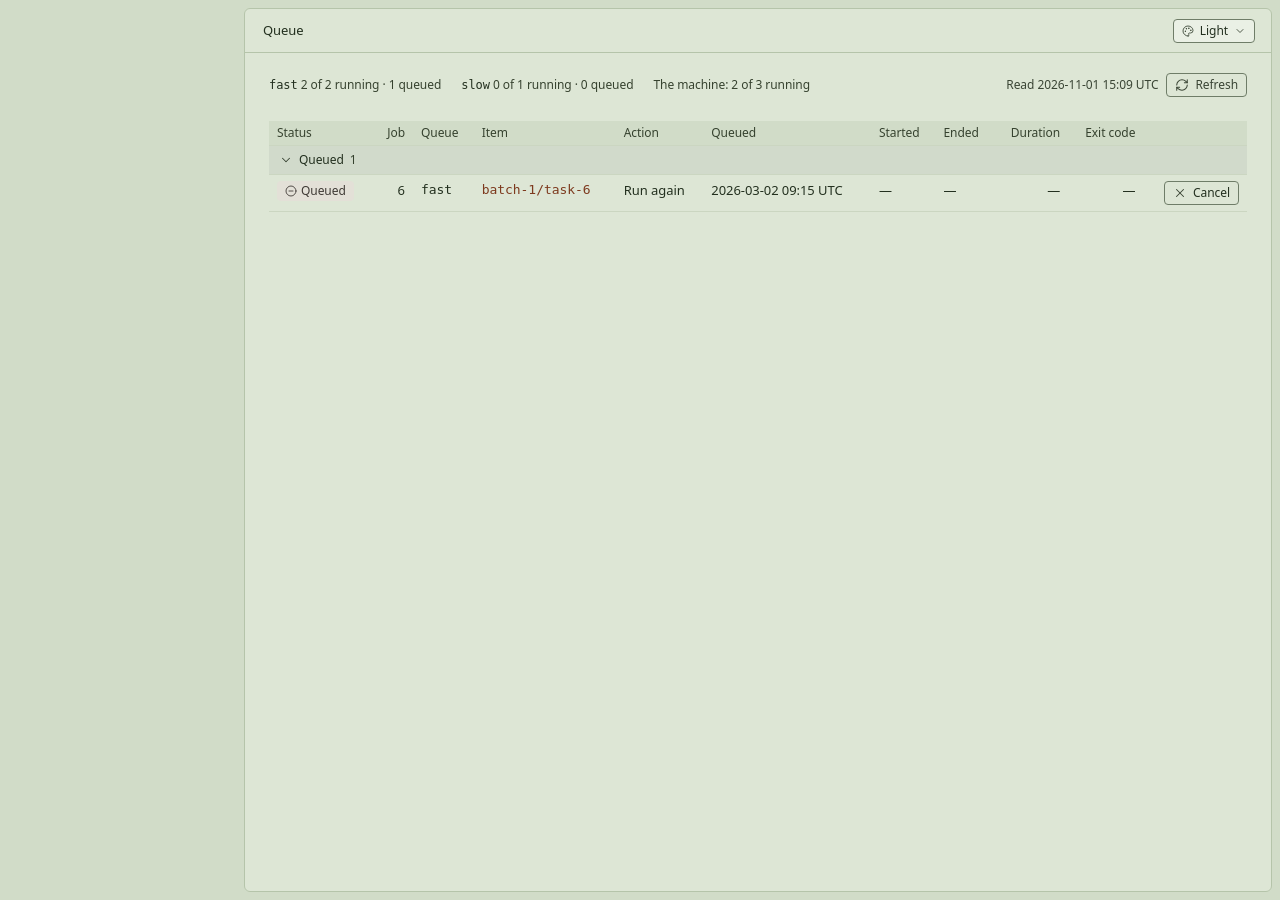
Test: the queue page › asks before it cancels a job, then posts its ID and reads again
The image size is (1280, 900).
Click the button "Cancel": (1202, 193) [1164,181,1239,205]
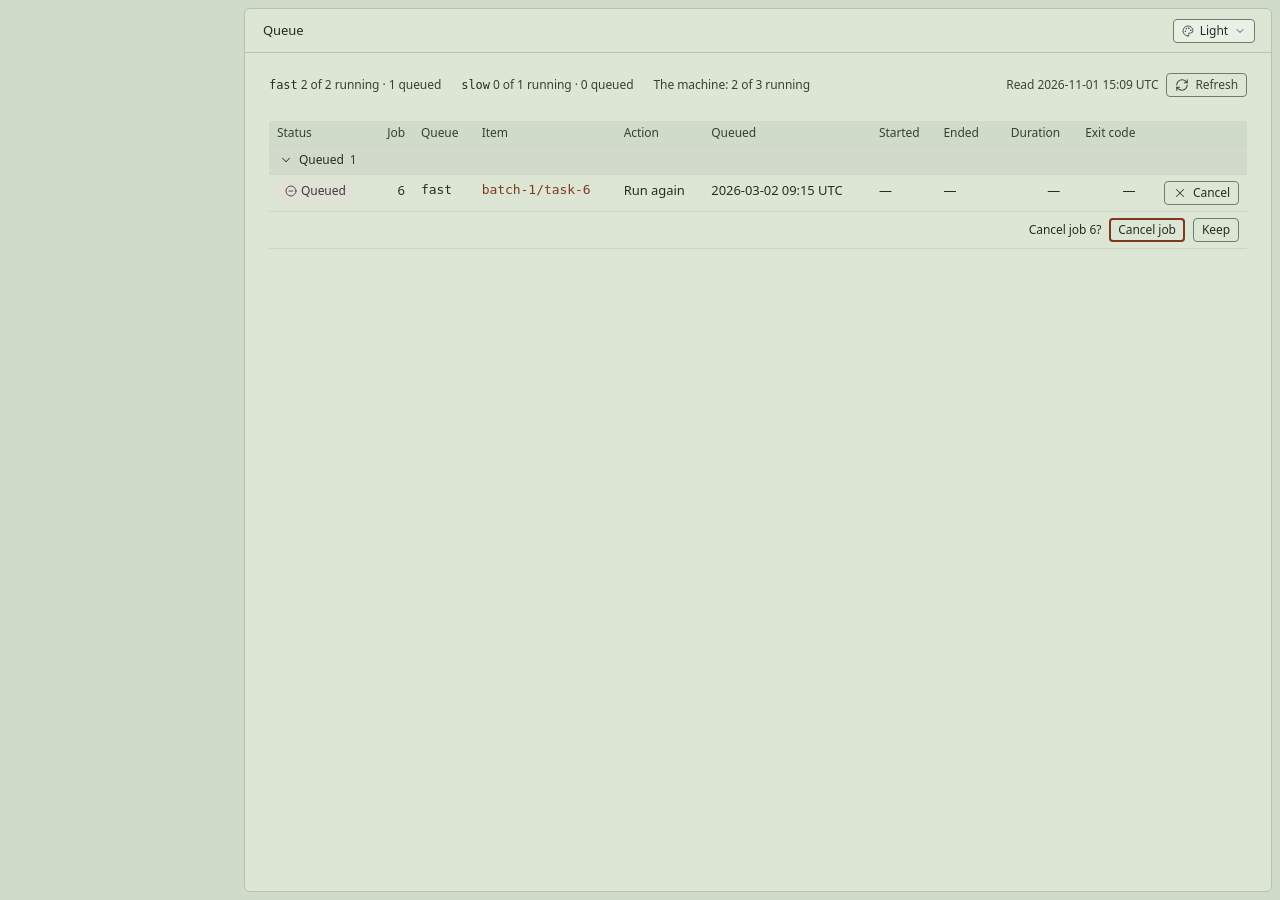
Expected: the text "Cancel job 6?" is shown, [1029,222,1101,238]
Click the button "Cancel job": (1147, 230) [1109,218,1185,242]
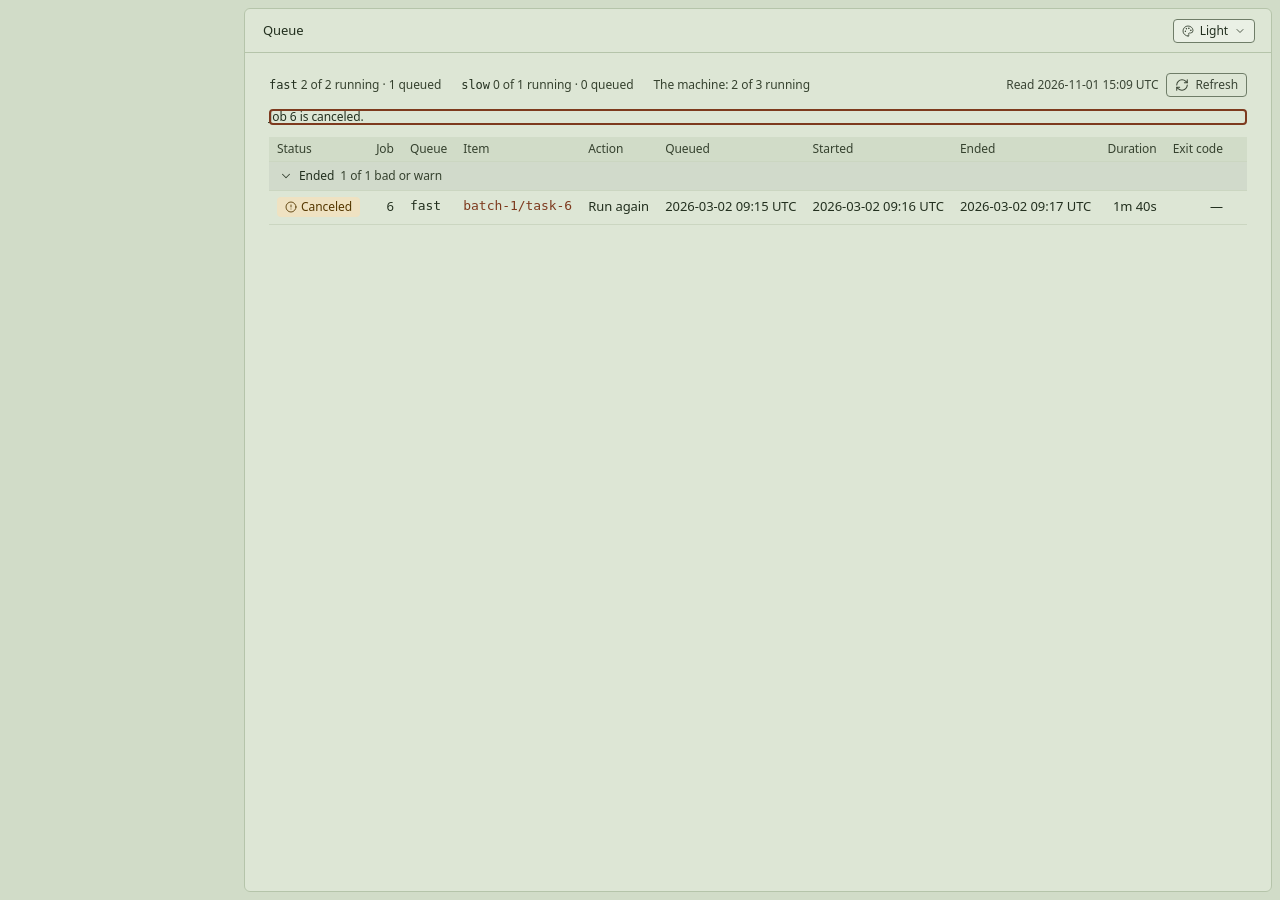
Expected: the text "Job 6 is canceled." is shown, [269,108,364,125]
Expected: the text "Canceled" is shown, [277,197,360,217]
